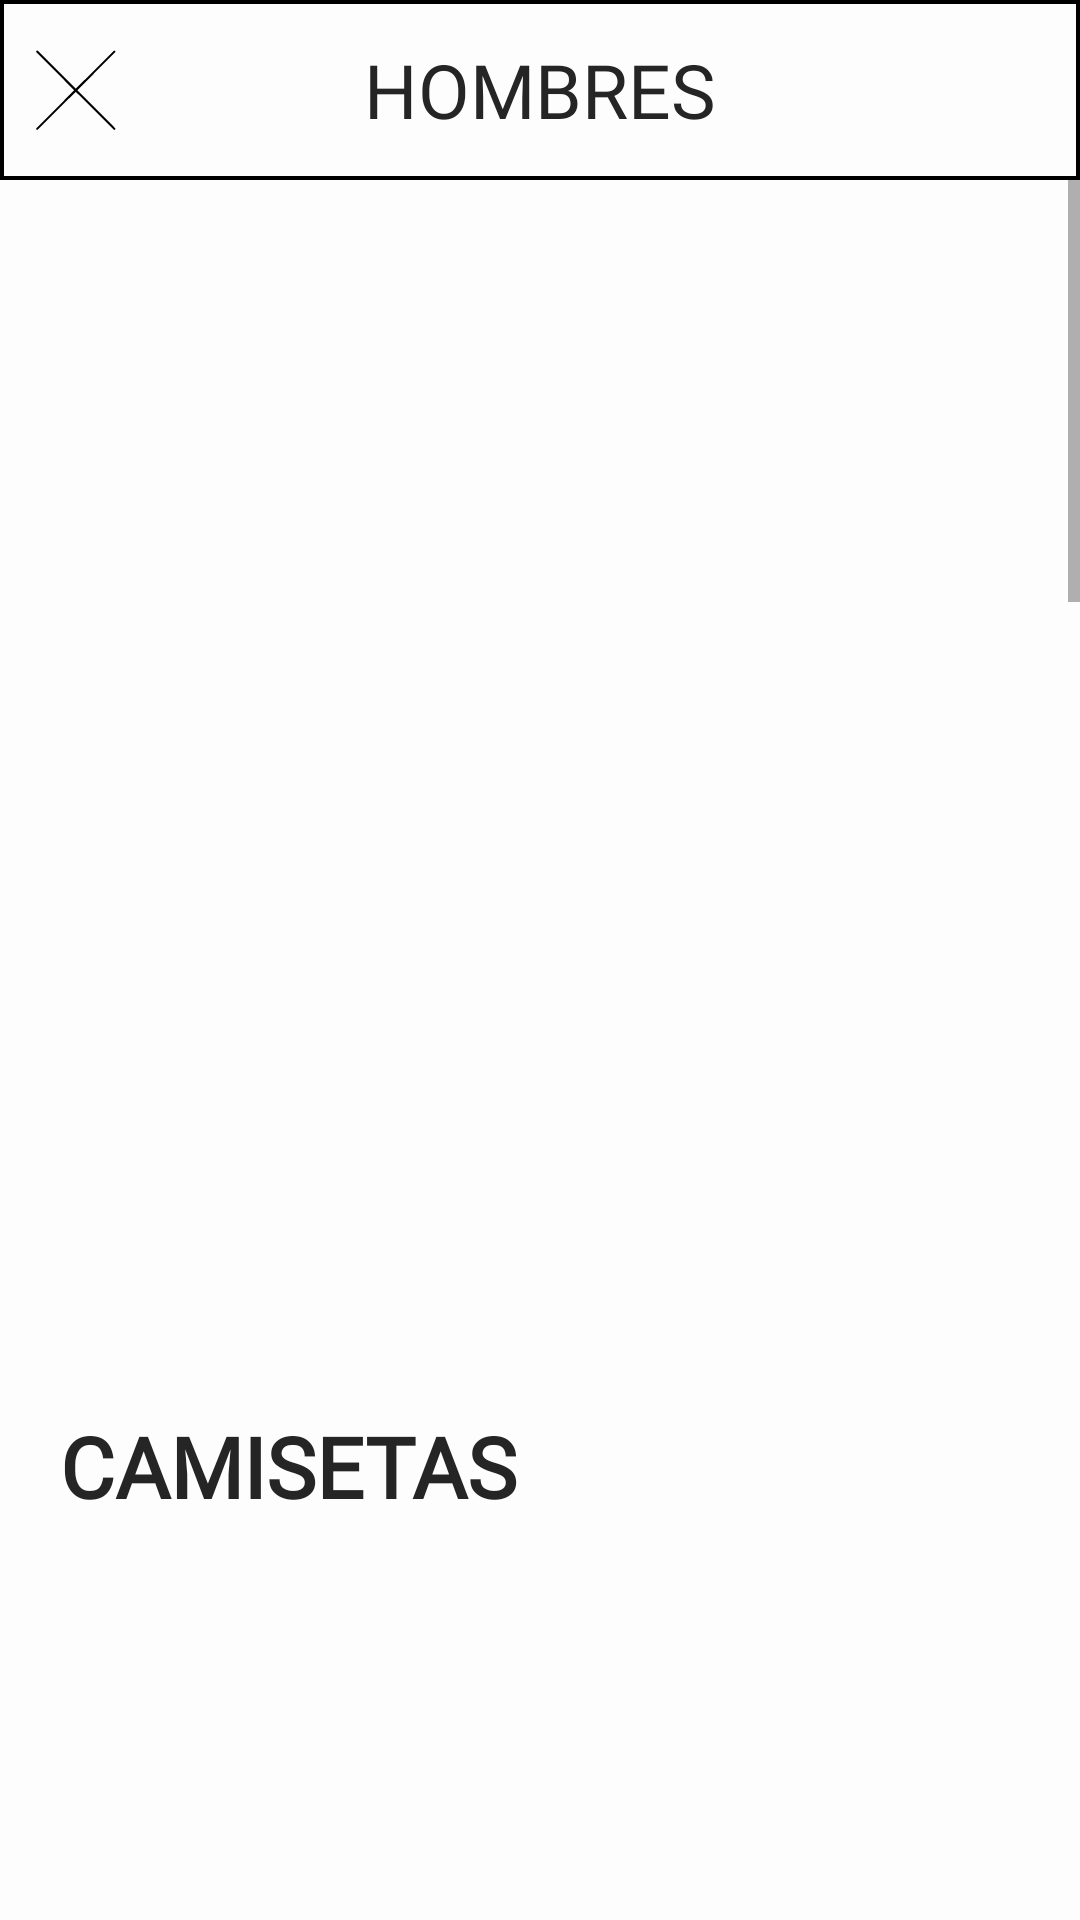

Screen size 1080x1920. Icon name, then its center in pixels as (x,y):
cruz: (75,90)
